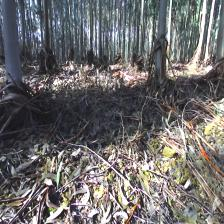trunk: (1, 0, 24, 91), (150, 3, 168, 90), (41, 6, 52, 69)
